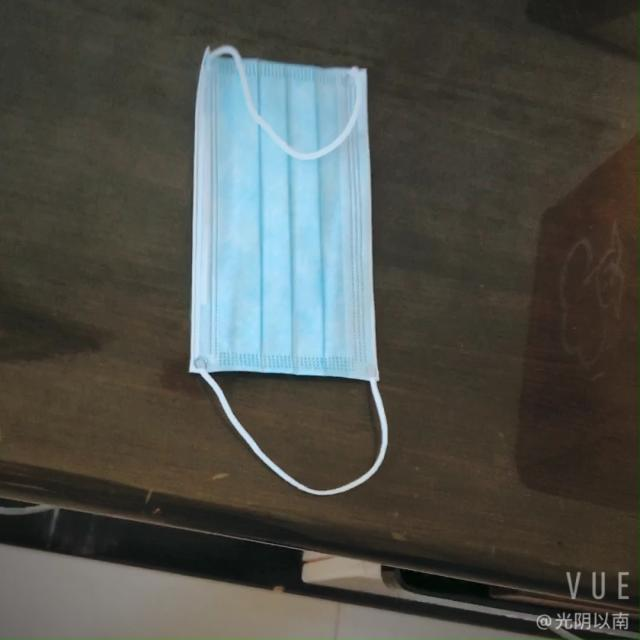non-organic waste: (165, 43, 386, 400)
